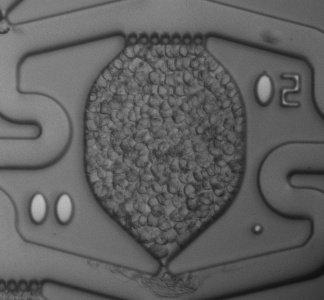AptNum: (247, 66, 307, 114)
Marker: (246, 217, 268, 238)
StNum: (19, 183, 83, 234)
Trap: (136, 257, 192, 300)
